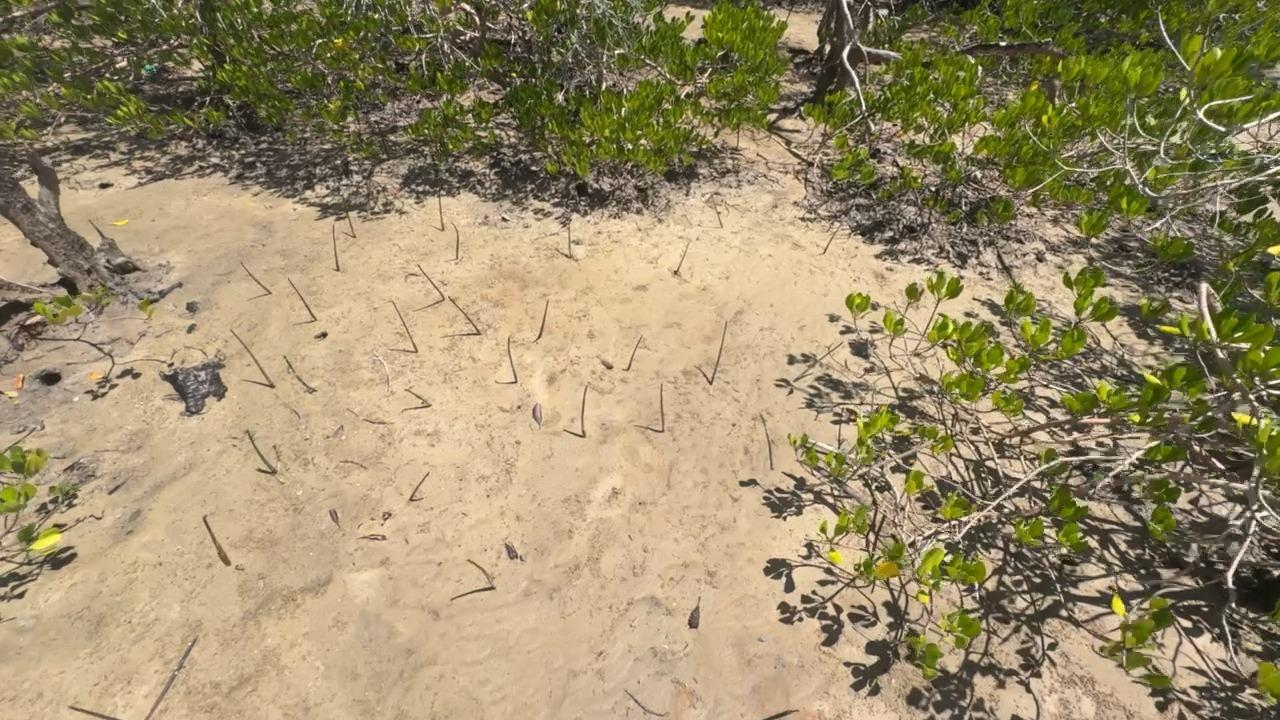Tree: (913, 268, 965, 351), (229, 328, 275, 388), (203, 515, 231, 566), (391, 301, 418, 353), (245, 429, 276, 474), (288, 276, 318, 321), (447, 296, 481, 335), (709, 320, 727, 385), (624, 688, 669, 714), (240, 261, 272, 294), (417, 264, 445, 301), (465, 558, 494, 588), (758, 412, 773, 468), (67, 704, 118, 720), (822, 222, 842, 255), (409, 471, 430, 501), (627, 335, 643, 370), (507, 336, 518, 382), (675, 242, 690, 274), (404, 389, 431, 406), (763, 708, 801, 720), (710, 194, 723, 228), (538, 300, 549, 338), (87, 217, 105, 239), (332, 224, 340, 271), (450, 221, 459, 260), (581, 384, 587, 437), (659, 383, 665, 432), (345, 210, 355, 238), (438, 193, 444, 230)
